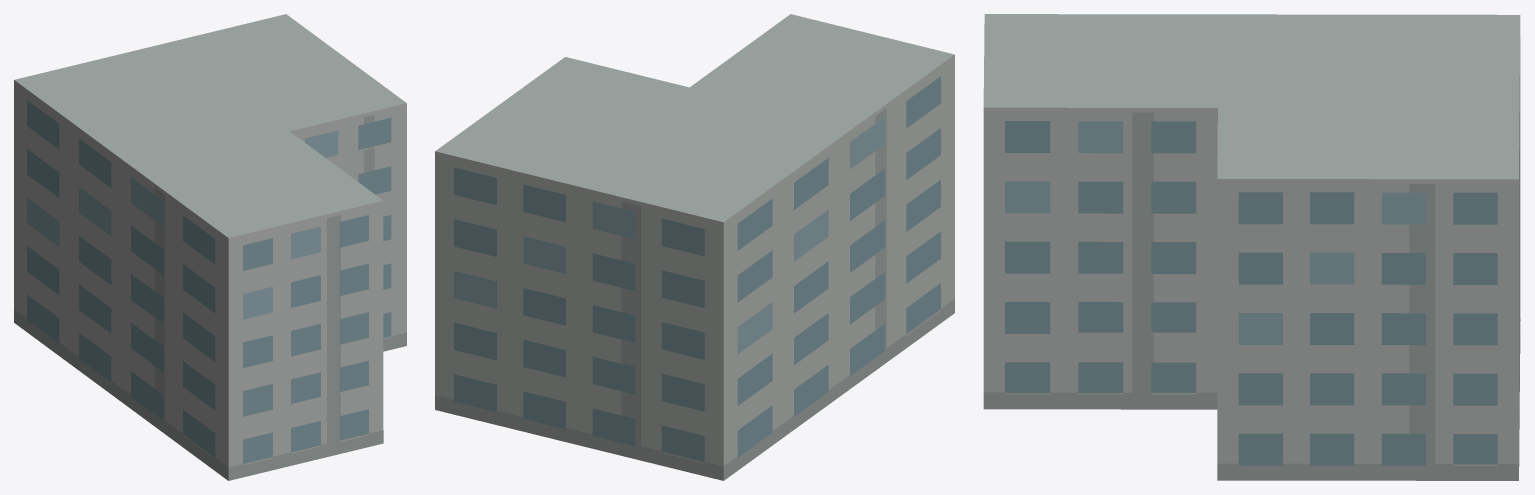
The model's file is residential-75a7784d-58f5-4e74-afbc-0b05f63c6695.glb.
3 renders of one model, left to right at view 1: azimuth 30°, elevation 25°; view 2: azimuth 150°, elevation 25°; view 3: azimuth 270°, elevation 25°, orthographic. The views are drawn at different scales.
Visible parts, largest first — view 1: residential-75a7784d-58f5-4e74-afbc-0b05f63c6695.tmp; view 2: residential-75a7784d-58f5-4e74-afbc-0b05f63c6695.tmp; view 3: residential-75a7784d-58f5-4e74-afbc-0b05f63c6695.tmp.
Boxes of the visible parts, bbox=[...] form: residential-75a7784d-58f5-4e74-afbc-0b05f63c6695.tmp: bbox=[14, 14, 406, 480]; residential-75a7784d-58f5-4e74-afbc-0b05f63c6695.tmp: bbox=[435, 14, 954, 480]; residential-75a7784d-58f5-4e74-afbc-0b05f63c6695.tmp: bbox=[983, 14, 1520, 480].
Size of the model in its own units: 17.95 by 15.25 by 24.62.
